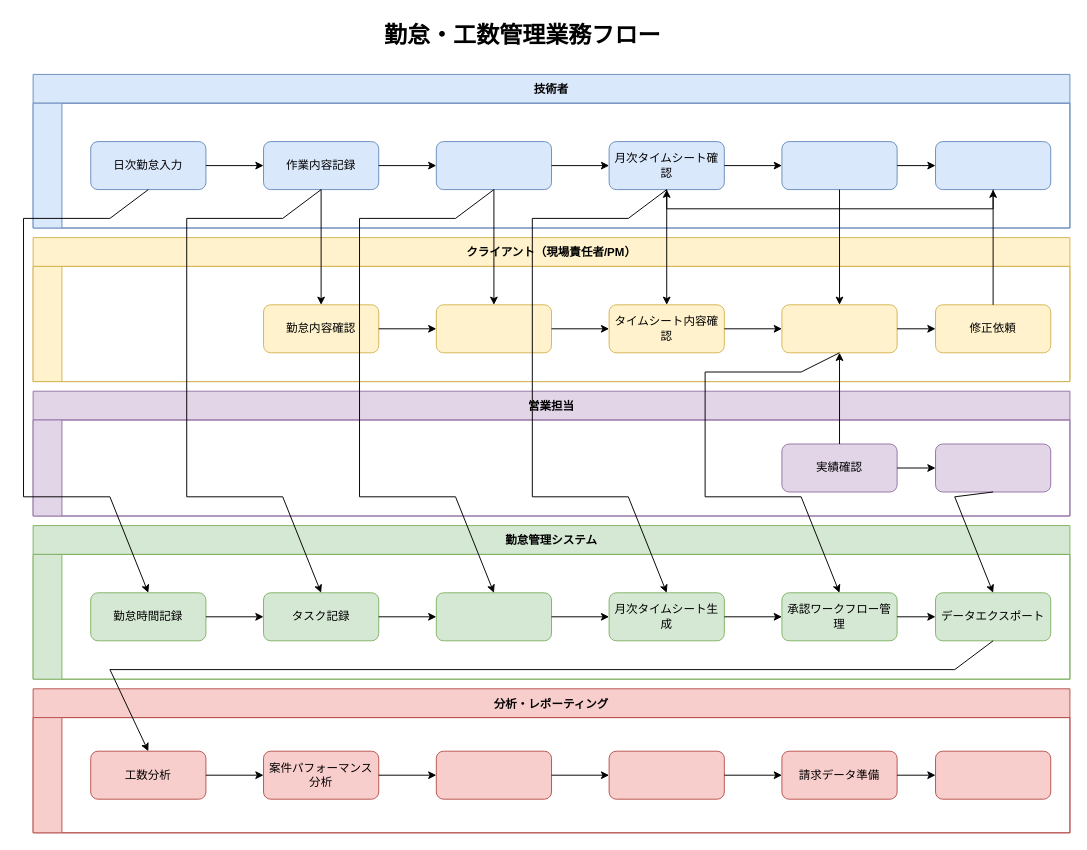
The diagram is 1087 pixels wide and 850 high, and some of its shapes have lost their labels. The box of each missing label's shape, as (x1, y1, x2, y2) in pixels:
PM承認: (781, 304, 897, 353)
タイムシート確定: (935, 443, 1051, 492)
リソース稼働率分析: (435, 750, 552, 799)
修正対応: (935, 141, 1051, 190)
承認依頼提出: (781, 141, 897, 190)
残業傾向分析: (608, 750, 724, 799)
残業承認: (435, 304, 552, 353)
残業時間計算: (435, 592, 552, 641)
残業申請: (435, 141, 552, 190)
経営層レポート: (935, 750, 1051, 799)
